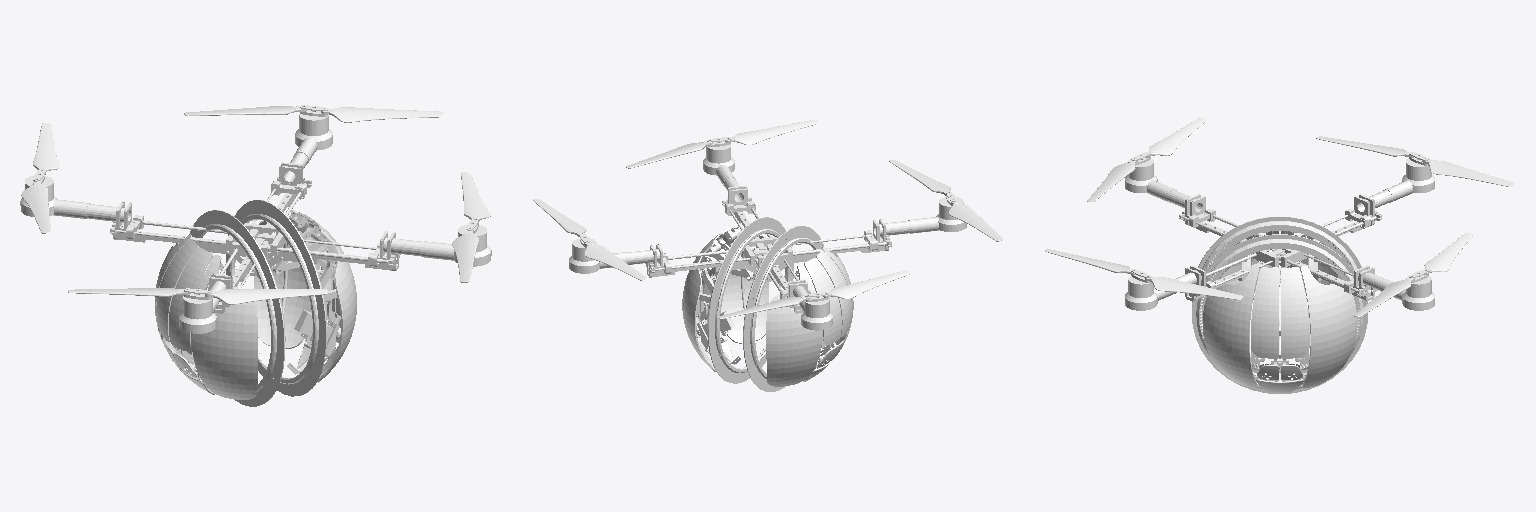
--- Render facts (derived) ---
Views: 3 orthographic renders of the robot side by side, from view 1: azimuth 30°, elevation 25°; view 2: azimuth 150°, elevation 25°; view 3: azimuth 270°, elevation 25°.
Model mmsrobot with 59 links and 58 joints (52 continuous, 5 prismatic, 1 fixed), rooted at base_link, posed every joint at zero.
Visible links, largest first — view 1: foot430, wheel1, wheel2, fly032, fly022, fly012, foot42, foot230, foot130, fly021, fly031, foot32 (+17 smaller); view 2: foot330, wheel1, wheel2, foot230, fly042, fly022, foot32, fly012, foot130, fly011, fly041, foot42 (+13 smaller); view 3: foot130, wheel1, foot230, wheel2, foot12, foot22, fly042, fly032, fly012, fly011, fly022, fly021 (+13 smaller).
Boxes of the visible links, bbox=[...] form: foot430: bbox=[192, 255, 257, 399]; wheel1: bbox=[226, 200, 326, 396]; wheel2: bbox=[189, 210, 285, 406]; fly032: bbox=[20, 196, 143, 238]; fly022: bbox=[368, 231, 491, 266]; fly012: bbox=[271, 129, 332, 199]; foot42: bbox=[169, 248, 212, 355]; foot230: bbox=[315, 229, 356, 382]; foot130: bbox=[254, 211, 319, 348]; fly021: bbox=[256, 232, 400, 270]; fly031: bbox=[110, 221, 258, 254]; foot32: bbox=[156, 239, 199, 341]; foot330: bbox=[766, 264, 821, 386]; wheel1: bbox=[708, 217, 793, 383]; wheel2: bbox=[743, 226, 823, 391]; foot230: bbox=[713, 226, 768, 343]; fly042: bbox=[864, 214, 966, 250]; fly022: bbox=[703, 157, 755, 215]; foot32: bbox=[804, 258, 841, 348]; fly012: bbox=[569, 244, 671, 273]; foot130: bbox=[682, 242, 717, 371]; fly011: bbox=[645, 243, 765, 277]; fly041: bbox=[784, 235, 891, 263]; foot42: bbox=[816, 250, 851, 336]; foot130: bbox=[1300, 266, 1357, 387]; wheel1: bbox=[1192, 234, 1367, 393]; foot230: bbox=[1203, 266, 1259, 387]; wheel2: bbox=[1192, 217, 1367, 372]; foot12: bbox=[1281, 267, 1309, 361]; foot22: bbox=[1251, 267, 1279, 361]; fly042: bbox=[1125, 175, 1215, 227]; fly032: bbox=[1345, 175, 1434, 228]; fly012: bbox=[1344, 265, 1434, 310]; fly011: bbox=[1271, 249, 1377, 301]; fly022: bbox=[1125, 265, 1214, 310]; fly021: bbox=[1185, 249, 1278, 301].
Bounding box of the posed robot: 0.8923 × 0.8923 × 0.3569 m (x, y, z).
Meshes: 58 distinct files referenced, 57 mesh visuals loaded (57 binary STL); not drawn: 1 (reference not matched to a file when rendering).

robot.urdf — mmsrobot:
<robot
  name="mmsrobot">
  <link
    name="base_link">
  </link>
 <joint
    name="base_link0_fixed"
    type="fixed">
    <parent
      link="base_link" />
    <child
      link="base_link0" />
  </joint>
  <link
    name="base_link0">
    <inertial>
      <origin
        xyz="0.000365591606460035 -0.00111717371476661 -0.00671578032312127"
        rpy="0 0 0" />
      <mass
        value="2.28359826210286" />
      <inertia
        ixx="0.0376414046378065"
        ixy="9.5348042036841E-05"
        ixz="-4.17685026793869E-06"
        iyy="0.0230923897402715"
        iyz="0.000624427846058721"
        izz="0.0199997521264484" />
    </inertial>
    <visual>
      <origin
        xyz="0 0 0"
        rpy="0 0 0" />
      <geometry>
        <mesh
          filename="package://mmsrobot_description/meshes/base_link.STL" />
      </geometry>
      <material
        name="">
        <color
          rgba="0.752941176470588 0.752941176470588 0.752941176470588 1" />
      </material>
    </visual>
    <collision>
      <origin
        xyz="0 0 0"
        rpy="0 0 0" />
      <geometry>
        <mesh
          filename="package://mmsrobot_description/meshes/base_link.STL" />
      </geometry>
    </collision>
  </link>
  <link
    name="wheel1">
    <inertial>
      <origin
        xyz="-1.03209863246588E-05 -1.99433017201698E-16 0.000778936315291849"
        rpy="0 0 0" />
      <mass
        value="0.162807208863698" />
      <inertia
        ixx="0.00181549978921057"
        ixy="-2.41657419130976E-18"
        ixz="-8.53429402280263E-09"
        iyy="0.00181549982536503"
        iyz="2.97533364913781E-18"
        izz="0.00362480729594771" />
    </inertial>
    <visual>
      <origin
        xyz="0 0 0"
        rpy="0 0 0" />
      <geometry>
        <mesh
          filename="package://mmsrobot_description/meshes/wheel1.STL" />
      </geometry>
      <material
        name="">
        <color
          rgba="1 1 1 1" />
      </material>
    </visual>
    <collision>
      <origin
        xyz="0 0 0"
        rpy="0 0 0" />
      <geometry>
        <mesh
          filename="package://mmsrobot_description/meshes/wheel1.STL" />
      </geometry>
    </collision>
  </link>
  <joint
    name="wheel_re1"
    type="continuous">
    <origin
      xyz="0.038 0 -4.06063573736665E-05"
      rpy="0 1.5707963267949 0" />
    <parent
      link="base_link0" />
    <child
      link="wheel1" />
    <axis
      xyz="0 0 -1" />
  </joint>
  <link
    name="wheel2">
    <inertial>
      <origin
        xyz="1.03209863247143E-05 7.93101198348749E-17 -0.00122106368470842"
        rpy="0 0 0" />
      <mass
        value="0.162807208863699" />
      <inertia
        ixx="0.00181549978921057"
        ixy="-2.18751339988067E-18"
        ixz="8.53429402276014E-09"
        iyy="0.00181549982536503"
        iyz="-2.66017879014022E-18"
        izz="0.00362480729594773" />
    </inertial>
    <visual>
      <origin
        xyz="0 0 0"
        rpy="0 0 0" />
      <geometry>
        <mesh
          filename="package://mmsrobot_description/meshes/wheel2.STL" />
      </geometry>
      <material
        name="">
        <color
          rgba="1 1 1 1" />
      </material>
    </visual>
    <collision>
      <origin
        xyz="0 0 0"
        rpy="0 0 0" />
      <geometry>
        <mesh
          filename="package://mmsrobot_description/meshes/wheel2.STL" />
      </geometry>
    </collision>
  </link>
  <joint
    name="wheel_re2"
    type="continuous">
    <origin
      xyz="-0.04 0 -4.54952400428741E-05"
      rpy="3.14159265358979 -1.5707963267949 0" />
    <parent
      link="base_link0" />
    <child
      link="wheel2" />
    <axis
      xyz="0 0 1" />
  </joint>
  <link
    name="foot10">
    <inertial>
      <origin
        xyz="-0.0364998055853478 -0.0201791962952851 0.0393769541906813"
        rpy="0 0 0" />
      <mass
        value="0.0555141043554309" />
      <inertia
        ixx="6.36843779043018E-05"
        ixy="-1.79308926580314E-08"
        ixz="5.74001723262844E-06"
        iyy="3.75373705544821E-05"
        iyz="3.530511735445E-08"
        izz="4.18952031197167E-05" />
    </inertial>
    <visual>
      <origin
        xyz="0 0 0"
        rpy="0 0 0" />
      <geometry>
        <mesh
          filename="package://mmsrobot_description/meshes/foot10.STL" />
      </geometry>
      <material
        name="">
        <color
          rgba="1 1 1 1" />
      </material>
    </visual>
    <collision>
      <origin
        xyz="0 0 0"
        rpy="0 0 0" />
      <geometry>
        <mesh
          filename="package://mmsrobot_description/meshes/foot10.STL" />
      </geometry>
    </collision>
  </link>
  <joint
    name="foot_re10"
    type="continuous">
    <origin
      xyz="0.0779999999018676 -0.0199999999999988 -0.128000000080715"
      rpy="0 0 3.14159265358979" />
    <parent
      link="base_link0" />
    <child
      link="foot10" />
    <axis
      xyz="0 1 0" />
  </joint>
  <link
    name="foot11">
    <inertial>
      <origin
        xyz="0.00118918242163793 0.00840513920933102 -0.0152443183708235"
        rpy="0 0 0" />
      <mass
        value="0.011272090543252" />
      <inertia
        ixx="4.34882142011447E-06"
        ixy="4.74633962197037E-07"
        ixz="-1.32354564165582E-06"
        iyy="4.23005000512135E-06"
        iyz="1.05971132256461E-06"
        izz="2.25417296735574E-06" />
    </inertial>
    <visual>
      <origin
        xyz="0 0 0"
        rpy="0 0 0" />
      <geometry>
        <mesh
          filename="package://mmsrobot_description/meshes/foot11.STL" />
      </geometry>
      <material
        name="">
        <color
          rgba="1 1 1 1" />
      </material>
    </visual>
    <collision>
      <origin
        xyz="0 0 0"
        rpy="0 0 0" />
      <geometry>
        <mesh
          filename="package://mmsrobot_description/meshes/foot11.STL" />
      </geometry>
    </collision>
  </link>
  <joint
    name="foot_re11"
    type="continuous">
    <origin
      xyz="-0.0574330127600885 -0.0452000000771286 0.0527500000906872"
      rpy="-3.1415926533426 0.523598784293071 -3.14159265309541" />
    <parent
      link="foot10" />
    <child
      link="foot11" />
    <axis
      xyz="-1 0 0" />
  </joint>
  <link
    name="foot12">
    <inertial>
      <origin
        xyz="-0.0176749436470422 -0.0630855837630193 -0.00925365803538597"
        rpy="0 0 0" />
      <mass
        value="0.10916330558266" />
      <inertia
        ixx="0.000247796501433723"
        ixy="1.56483243826473E-05"
        ixz="1.46150194923993E-06"
        iyy="5.00224152904236E-05"
        iyz="-6.07245365773293E-05"
        izz="0.000227633558083589" />
    </inertial>
    <visual>
      <origin
        xyz="0 0 0"
        rpy="0 0 0" />
      <geometry>
        <mesh
          filename="package://mmsrobot_description/meshes/foot12.STL" />
      </geometry>
      <material
        name="">
        <color
          rgba="1 1 1 1" />
      </material>
    </visual>
    <collision>
      <origin
        xyz="0 0 0"
        rpy="0 0 0" />
      <geometry>
        <mesh
          filename="package://mmsrobot_description/meshes/foot12.STL" />
      </geometry>
    </collision>
  </link>
  <joint
    name="foot_re12"
    type="continuous">
    <origin
      xyz="-0.01433974407594 0.0119999999958751 -0.043971140527557"
      rpy="2.0562583606008 9.6909593482918E-09 1.57079633233573" />
    <parent
      link="foot11" />
    <child
      link="foot12" />
    <axis
      xyz="1 0 0" />
  </joint>
  <link
    name="foot130">
    <inertial>
      <origin
        xyz="-0.0161047379365589 -0.0703154018588947 -0.118825985425476"
        rpy="0 0 0" />
      <mass
        value="0.0890622032349928" />
      <inertia
        ixx="0.000458332700700983"
        ixy="2.95355966646799E-05"
        ixz="2.96987019370773E-05"
        iyy="0.000436062799439686"
        iyz="-1.56412220789116E-05"
        izz="0.000107866045194191" />
    </inertial>
    <visual>
      <origin
        xyz="0 0 0"
        rpy="0 0 0" />
      <geometry>
        <mesh
          filename="package://mmsrobot_description/meshes/foot130.STL" />
      </geometry>
      <material
        name="">
        <color
          rgba="1 1 1 1" />
      </material>
    </visual>
    <collision>
      <origin
        xyz="0 0 0"
        rpy="0 0 0" />
      <geometry>
        <mesh
          filename="package://mmsrobot_description/meshes/foot130.STL" />
      </geometry>
    </collision>
  </link>
  <joint
    name="foot_re130"
    type="continuous">
    <origin
      xyz="-0.0089999984374722 -0.139143611896511 -0.0513425319721627"
      rpy="3.14159265358979 1.53265957630772 1.57079633775183" />
    <parent
      link="foot12" />
    <child
      link="foot130" />
    <axis
      xyz="0 1 0" />
  </joint>
  <link
    name="foot131">
    <inertial>
      <origin
        xyz="0.016898091729692 -0.00624999978166453 -0.0224391345157634"
        rpy="0 0 0" />
      <mass
        value="0.00793203711002206" />
      <inertia
        ixx="2.60058938322836E-06"
        ixy="-1.75954532342174E-14"
        ixz="1.8222369080421E-06"
        iyy="4.05815808224144E-06"
        iyz="2.44764884510908E-14"
        izz="1.5530836458796E-06" />
    </inertial>
    <visual>
      <origin
        xyz="0 0 0"
        rpy="0 0 0" />
      <geometry>
        <mesh
          filename="package://mmsrobot_description/meshes/foot131.STL" />
      </geometry>
      <material
        name="">
        <color
          rgba="1 1 1 1" />
      </material>
    </visual>
    <collision>
      <origin
        xyz="0 0 0"
        rpy="0 0 0" />
      <geometry>
        <mesh
          filename="package://mmsrobot_description/meshes/foot131.STL" />
      </geometry>
    </collision>
  </link>
  <joint
    name="foot_re131"
    type="continuous">
    <origin
      xyz="-0.0399999988918239 -0.0987834622902894 -0.0337909377960114"
      rpy="3.14159265358979 1.53265957630772 1.57079633775183" />
    <parent
      link="foot12" />
    <child
      link="foot131" />
    <axis
      xyz="0 1 0" />
  </joint>
  <link
    name="foot132">
    <inertial>
      <origin
        xyz="-0.00400000000000002 0.00485487676542894 -0.0326409278604714"
        rpy="0 0 0" />
      <mass
        value="0.00704964418718946" />
      <inertia
        ixx="3.32114514170302E-06"
        ixy="-7.02513799811767E-23"
        ixz="3.31711157178716E-22"
        iyy="3.20650438190996E-06"
        iyz="4.58837210721986E-07"
        izz="1.89836964456418E-07" />
    </inertial>
    <visual>
      <origin
        xyz="0 0 0"
        rpy="0 0 0" />
      <geometry>
        <mesh
          filename="package://mmsrobot_description/meshes/foot132.STL" />
      </geometry>
      <material
        name="">
        <color
          rgba="1 1 1 1" />
      </material>
    </visual>
    <collision>
      <origin
        xyz="0 0 0"
        rpy="0 0 0" />
      <geometry>
        <mesh
          filename="package://mmsrobot_description/meshes/foot132.STL" />
      </geometry>
    </collision>
  </link>
  <joint
    name="foot_re132"
    type="continuous">
    <origin
      xyz="0.0391017245834569 -0.0184999994948159 -0.0519235488873236"
      rpy="-1.71482872133985 1.09231997338156E-08 -1.57079632837916" />
    <parent
      link="foot131" />
    <child
      link="foot132" />
    <axis
      xyz="-1 0 0" />
  </joint>
  <link
    name="foot133">
    <inertial>
      <origin
        xyz="0.0208154026970013 0.0215519638377631 0.0301992700093149"
        rpy="0 0 0" />
      <mass
        value="0.0890622032349928" />
      <inertia
        ixx="0.000436062799191566"
        ixy="-1.12398754156044E-05"
        ixz="-3.1474825353347E-05"
        iyy="0.000123523774974536"
        iyz="-7.82582931724008E-05"
        izz="0.000442674971168758" />
    </inertial>
    <visual>
      <origin
        xyz="0 0 0"
        rpy="0 0 0" />
      <geometry>
        <mesh
          filename="package://mmsrobot_description/meshes/foot133.STL" />
      </geometry>
      <material
        name="">
        <color
          rgba="1 1 1 1" />
      </material>
    </visual>
    <collision>
      <origin
        xyz="0 0 0"
        rpy="0 0 0" />
      <geometry>
        <mesh
          filename="package://mmsrobot_description/meshes/foot133.STL" />
      </geometry>
    </collision>
  </link>
  <joint
    name="foot_re133"
    type="continuous">
    <origin
      xyz="0 0.00970975353085788 -0.0652818557209428"
      rpy="0 0 0" />
    <parent
      link="foot132" />
    <child
      link="foot133" />
    <axis
      xyz="-1 0 0" />
  </joint>
  <link
    name="foot21">
    <inertial>
      <origin
        xyz="0.000273881636067425 0.00865176735725234 0.0169386591996159"
        rpy="0 0 0" />
      <mass
        value="0.0119788315412312" />
      <inertia
        ixx="4.92814345357187E-06"
        ixy="5.17742557750124E-07"
        ixz="1.62037857720931E-06"
        iyy="4.97488036293264E-06"
        iyz="-1.13963452609378E-06"
        izz="2.4449725189846E-06" />
    </inertial>
    <visual>
      <origin
        xyz="0 0 0"
        rpy="0 0 0" />
      <geometry>
        <mesh
          filename="package://mmsrobot_description/meshes/foot21.STL" />
      </geometry>
      <material
        name="">
        <color
          rgba="1 1 1 1" />
      </material>
    </visual>
    <collision>
      <origin
        xyz="0 0 0"
        rpy="0 0 0" />
      <geometry>
        <mesh
          filename="package://mmsrobot_description/meshes/foot21.STL" />
      </geometry>
    </collision>
  </link>
  <joint
    name="foot_re21"
    type="continuous">
    <origin
      xyz="-0.0574330171796816 0.00479999979332649 0.0527500072839604"
      rpy="5.0839055043723E-09 0.523598784293072 -3.14159264342198" />
    <parent
      link="foot10" />
    <child
      link="foot21" />
    <axis
      xyz="-1 0 0" />
  </joint>
  <link
    name="foot22">
    <inertial>
      <origin
        xyz="-0.0176751244669035 -0.063602757743947 0.00448335630583022"
        rpy="0 0 0" />
      <mass
        value="0.109161602016911" />
      <inertia
        ixx="0.000247797737535849"
        ixy="1.57141977654333E-05"
        ixz="-2.8103680932955E-07"
        iyy="4.19200854962888E-05"
        iyz="4.67196346658706E-05"
        izz="0.000235736713987056" />
    </inertial>
    <visual>
      <origin
        xyz="0 0 0"
        rpy="0 0 0" />
      <geometry>
        <mesh
          filename="package://mmsrobot_description/meshes/foot22.STL" />
      </geometry>
      <material
        name="">
        <color
          rgba="1 1 1 1" />
      </material>
    </visual>
    <collision>
      <origin
        xyz="0 0 0"
        rpy="0 0 0" />
      <geometry>
        <mesh
          filename="package://mmsrobot_description/meshes/foot22.STL" />
      </geometry>
    </collision>
  </link>
  <joint
    name="foot_re22"
    type="continuous">
    <origin
      xyz="-0.0143397441848493 0.0119999999946302 0.0439711320906185"
      rpy="-2.1315356763959 -9.50507177220965E-09 1.57079632395831" />
    <parent
      link="foot21" />
    <child
      link="foot22" />
    <axis
      xyz="-1 0 0" />
  </joint>
  <link
    name="foot230">
    <inertial>
      <origin
        xyz="0.0703176034070182 0.119872852216277 -0.0032456666132622"
        rpy="0 0 0" />
      <mass
        value="0.089058496821403" />
      <inertia
        ixx="0.000436032424291995"
        ixy="-1.06788045667388E-05"
        ixz="3.16695047087249E-05"
        iyy="0.00012640304116681"
        iyz="8.38886729452962E-05"
        izz="0.000439759784767607" />
    </inertial>
    <visual>
      <origin
        xyz="0 0 0"
        rpy="0 0 0" />
      <geometry>
        <mesh
          filename="package://mmsrobot_description/meshes/foot230.STL" />
      </geometry>
      <material
        name="">
        <color
          rgba="1 1 1 1" />
      </material>
    </visual>
    <collision>
      <origin
        xyz="0 0 0"
        rpy="0 0 0" />
      <geometry>
        <mesh
          filename="package://mmsrobot_description/meshes/foot230.STL" />
      </geometry>
    </collision>
  </link>
  <joint
    name="foot_re230"
    type="continuous">
    <origin
      xyz="-0.00899999843747451 -0.142610836080339 0.0407326619972927"
      rpy="-3.01696383443525 -2.76848137302838E-09 -3.14159262026724" />
    <parent
      link="foot22" />
    <child
      link="foot230" />
    <axis
      xyz="0.999999999999999 0 0" />
  </joint>
  <link
    name="foot231">
    <inertial>
      <origin
        xyz="0.00578663004334556 -0.0155159626151743 -0.0206037922244977"
        rpy="0 0 0" />
      <mass
        value="0.00863860619493619" />
      <inertia
        ixx="4.60582357900598E-06"
        ixy="6.21083902049044E-08"
        ixz="8.24743139046323E-08"
        iyy="2.96700571496884E-06"
        iyz="-2.06823937188349E-06"
        izz="1.77808646058056E-06" />
    </inertial>
    <visual>
      <origin
        xyz="0 0 0"
        rpy="0 0 0" />
      <geometry>
        <mesh
          filename="package://mmsrobot_description/meshes/foot231.STL" />
      </geometry>
      <material
        name="">
        <color
          rgba="1 1 1 1" />
      </material>
    </visual>
    <collision>
      <origin
        xyz="0 0 0"
        rpy="0 0 0" />
      <geometry>
        <mesh
          filename="package://mmsrobot_description/meshes/foot231.STL" />
      </geometry>
    </collision>
  </link>
  <joint
    name="foot_re231"
    type="continuous">
    <origin
      xyz="-0.0399999988918194 -0.101044996980018 0.026266109047571"
      rpy="-1.60793689210283 2.00164508551207E-09 3.14159265354119" />
    <parent
      link="foot22" />
    <child
      link="foot231" />
    <axis
      xyz="1 0 0" />
  </joint>
  <link
    name="foot232">
    <inertial>
      <origin
        xyz="-0.004 -0.00708869570181853 -0.0322296508396697"
        rpy="0 0 0" />
      <mass
        value="0.00704964418718947" />
      <inertia
        ixx="3.32114514170303E-06"
        ixy="2.27508905015369E-23"
        ixz="1.5809469657011E-22"
        iyy="3.12925408769717E-06"
        iyz="-6.61515248144455E-07"
        izz="2.67087258669217E-07" />
    </inertial>
    <visual>
      <origin
        xyz="0 0 0"
        rpy="0 0 0" />
      <geometry>
        <mesh
          filename="package://mmsrobot_description/meshes/foot232.STL" />
      </geometry>
      <material
        name="">
        <color
          rgba="1 1 1 1" />
      </material>
    </visual>
    <collision>
      <origin
        xyz="0 0 0"
        rpy="0 0 0" />
      <geometry>
        <mesh
          filename="package://mmsrobot_description/meshes/foot232.STL" />
      </geometry>
    </collision>
  </link>
  <joint
    name="foot_re232"
    type="continuous">
    <origin
      xyz="0.0185000000000392 -0.0391017246127665 -0.0519235486852441"
      rpy="1.78367153659083 -1.33224752856499E-14 -3.63042932687885E-14" />
    <parent
      link="foot231" />
    <child
      link="foot232" />
    <axis
      xyz="1 0 0" />
  </joint>
  <link
    name="foot233">
    <inertial>
      <origin
        xyz="0.0208176069601055 -0.0194278421434326 0.0316119456625289"
        rpy="0 0 0" />
      <mass
        value="0.089058496821403" />
      <inertia
        ixx="0.000436032423609174"
        ixy="9.04708061585291E-06"
        ixz="-3.21736713614188E-05"
        iyy="0.000135780234085583"
        iyz="9.94373367574579E-05"
        izz="0.000430382592531655" />
    </inertial>
    <visual>
      <origin
        xyz="0 0 0"
        rpy="0 0 0" />
      <geometry>
        <mesh
          filename="package://mmsrobot_description/meshes/foot233.STL" />
      </geometry>
      <material
        name="">
        <color
          rgba="1 1 1 1" />
      </material>
    </visual>
    <collision>
      <origin
        xyz="0 0 0"
        rpy="0 0 0" />
      <geometry>
        <mesh
          filename="package://mmsrobot_description/meshes/foot233.STL" />
      </geometry>
    </collision>
  </link>
  <joint
    name="foot_re233"
    type="continuous">
    <origin
      xyz="0 -0.0141773914036371 -0.0644593016793394"
      rpy="0 4.13590306276514E-25 0" />
    <parent
      link="foot232" />
    <child
      link="foot233" />
    <axis
      xyz="1 0 0" />
  </joint>
  <link
    name="foot30">
    <inertial>
      <origin
        xyz="-0.020178814286165 -0.03649970517219 0.0393778194204265"
        rpy="0 0 0" />
      <mass
        value="0.0555116363708182" />
      <inertia
        ixx="3.75354799484112E-05"
        ixy="-1.87986604874322E-08"
        ixz="3.65930859755402E-08"
        iyy="6.36826331150098E-05"
        iyz="5.73966657725984E-06"
        izz="4.18943813527588E-05" />
    </inertial>
    <visual>
      <origin
        xyz="0 0 0"
        rpy="0 0 0" />
      <geometry>
        <mesh
          filename="package://mmsrobot_description/meshes/foot30.STL" />
      </geometry>
      <material
        name="">
        <color
          rgba="1 1 1 1" />
      </material>
    </visual>
    <collision>
      <origin
        xyz="0 0 0"
        rpy="0 0 0" />
      <geometry>
        <mesh
          filename="package://mmsrobot_description/meshes/foot30.STL" />
      </geometry>
    </collision>
  </link>
  <joint
    name="foot_re30"
    type="continuous">
    <origin
      xyz="-0.0779999999018841 -0.0200000000000044 -0.128000000080711"
      rpy="-1.13935575444627E-27 -1.96769920517305E-14 -1.57079632679484" />
    <parent
      link="base_link0" />
    <child
      link="foot30" />
    <axis
      xyz="1 0 0" />
  </joint>
  <link
    name="foot41">
    <inertial>
      <origin
        xyz="0.000273197563149807 -0.00865167443676584 0.0169387739336998"
        rpy="0 0 0" />
      <mass
        value="0.0119786596281688" />
      <inertia
        ixx="4.92805017795387E-06"
        ixy="-5.17788946791034E-07"
        ixz="1.62015163689636E-06"
        iyy="4.97481655007867E-06"
        iyz="1.13954320498524E-06"
        izz="2.44505014699804E-06" />
    </inertial>
    <visual>
      <origin
        xyz="0 0 0"
        rpy="0 0 0" />
      <geometry>
        <mesh
          filename="package://mmsrobot_description/meshes/foot41.STL" />
      </geometry>
      <material
        name="">
        <color
          rgba="1 1 1 1" />
      </material>
    </visual>
    <collision>
      <origin
        xyz="0 0 0"
        rpy="0 0 0" />
      <geometry>
        <mesh
          filename="package://mmsrobot_description/meshes/foot41.STL" />
      </geometry>
    </collision>
  </link>
  <joint
    name="foot_re41"
    type="continuous">
    <origin
      xyz="0.00479999910719571 -0.0574330222969366 0.0527500139199335"
      rpy="1.25576976108112E-08 0.523598784375025 -1.57079630167953" />
    <parent
      link="foot30" />
    <child
      link="foot41" />
    <axis
      xyz="1 0 0" />
  </joint>
  <link
    name="foot42">
    <inertial>
      <origin
        xyz="0.0176749436470342 0.0121131626217559 -0.062599459718598"
        rpy="0 0 0" />
      <mass
        value="0.109163305582642" />
      <inertia
        ixx="0.000247796501433588"
        ixy="3.7916745198478E-06"
        ixz="-1.52521883107749E-05"
        iyy="0.00024611715245978"
        iyz="7.93308019341105E-06"
        izz="3.15388209140859E-05" />
    </inertial>
    <visual>
      <origin
        xyz="0 0 0"
        rpy="0 0 0" />
      <geometry>
        <mesh
          filename="package://mmsrobot_description/meshes/foot42.STL" />
      </geometry>
      <material
        name="">
        <color
          rgba="1 1 1 1" />
      </material>
    </visual>
    <collision>
      <origin
        xyz="0 0 0"
        rpy="0 0 0" />
      <geometry>
        <mesh
          filename="package://mmsrobot_description/meshes/foot42.STL" />
      </geometry>
    </collision>
  </link>
  <joint
    name="foot_re42"
    type="continuous">
    <origin
      xyz="-0.0143397431731468 -0.0119999935271351 0.0439711297506678"
      rpy="2.3193446601794 2.79299024606319E-08 1.57079633098806" />
    <parent
      link="foot41" />
    <child
      link="foot42" />
    <axis
      xyz="0.999999999999999 0 0" />
  </joint>
  <link
    name="foot430">
    <inertial>
      <origin
        xyz="0.0383154017328526 0.0158815730762303 0.118856018089647"
        rpy="0 0 0" />
      <mass
        value="0.0890622032347055" />
      <inertia
        ixx="0.00043606279941257"
        ixy="2.95649163305943E-05"
        ixz="-1.55857312672982E-05"
        iyy="0.000458219926092464"
        iyz="3.0356612527702E-05"
        izz="0.000107978819816286" />
    </inertial>
    <visual>
      <origin
        xyz="0 0 0"
        rpy="0 0 0" />
      <geometry>
        <mesh
          filename="package://mmsrobot_description/meshes/foot430.STL" />
      </geometry>
      <material
        name="">
        <color
          rgba="1 1 1 1" />
      </material>
    </visual>
    <collision>
      <origin
        xyz="0 0 0"
        rpy="0 0 0" />
      <geometry>
        <mesh
          filename="package://mmsrobot_description/meshes/foot430.STL" />
      </geometry>
    </collision>
  </link>
  <joint
    name="foot_re430"
    type="continuous">
    <origin
      xyz="0.0410000021072509 -0.00247744863659816 -0.148293168653835"
      rpy="0.296771297654271 2.11869365657106E-08 -3.11628427149921E-08" />
    <parent
      link="foot42" />
    <child
      link="foot430" />
    <axis
      xyz="0.999999999999995 0 0" />
  </joint>
  <link
    name="foot431">
    <inertial>
      <origin
        xyz="-0.00424999999999998 -0.0202095125089549 0.0195098939066535"
        rpy="0 0 0" />
      <mass
        value="0.00793203711002207" />
      <inertia
        ixx="4.05815808224144E-06"
        ixy="1.23604633620486E-22"
        ixz="-1.02309331906323E-22"
        iyy="2.01006439972787E-06"
        iyz="1.89483664234074E-06"
        izz="2.14360862938009E-06" />
    </inertial>
    <visual>
      <origin
        xyz="0 0 0"
        rpy="0 0 0" />
      <geometry>
        <mesh
          filename="package://mmsrobot_description/meshes/foot431.STL" />
      </geometry>
      <material
        name="">
        <color
          rgba="1 1 1 1" />
      </material>
    </visual>
    <collision>
      <origin
        xyz="0 0 0"
        rpy="0 0 0" />
      <geometry>
        <mesh
          filename="package://mmsrobot_description/meshes/foot431.STL" />
      </geometry>
    </collision>
  </link>
  <joint
    name="foot_re431"
    type="continuous">
    <origin
      xyz="0.0505000030338873 0.000750902824356664 -0.104400370242186"
      rpy="0.141097570434059 1.00313561013763E-08 -3.25024284604319E-08" />
    <parent
      link="foot42" />
    <child
      link="foot431" />
    <axis
      xyz="0.999999999999995 0 0" />
  </joint>
  <link
    name="foot432">
    <inertial>
      <origin
        xyz="-0.00400000000000003 0.0325723134570516 0.00529569599350059"
        rpy="0 0 0" />
      <mass
        value="0.00704964418718947" />
      <inertia
        ixx="3.32114514170303E-06"
        ixy="3.45281182702234E-22"
        ixz="5.50994729836634E-23"
        iyy="2.02792906699002E-07"
        iyz="-4.99447192733479E-07"
        izz="3.19354843966738E-06" />
    </inertial>
    <visual>
      <origin
        xyz="0 0 0"
        rpy="0 0 0" />
      <geometry>
        <mesh
          filename="package://mmsrobot_description/meshes/foot432.STL" />
      </geometry>
      <material
        name="">
        <color
          rgba="1 1 1 1" />
      </material>
    </visual>
    <collision>
      <origin
        xyz="0 0 0"
        rpy="0 0 0" />
      <geometry>
        <mesh
          filename="package://mmsrobot_description/meshes/foot432.STL" />
      </geometry>
    </collision>
  </link>
  <joint
    name="foot_re432"
    type="continuous">
    <origin
      xyz="0.00800000000005502 -0.0467642616994829 0.0451453633023117"
      rpy="6.56580732005807E-08 4.6834926280298E-15 6.39210780030601E-14" />
    <parent
      link="foot431" />
    <child
      link="foot432" />
    <axis
      xyz="0.999999999999995 0 0" />
  </joint>
  <link
    name="foot433">
    <inertial>
      <origin
        xyz="0.0208154026973695 -0.030487864855888 0.0211417395427129"
        rpy="0 0 0" />
      <mass
        value="0.0890622032347055" />
      <inertia
        ixx="0.000436062799184979"
        ixy="3.16238976207515E-05"
        ixz="-1.0813349606944E-05"
        iyy="0.000440500937366361"
        iyz="8.2543803602479E-05"
        izz="0.00012569780876998" />
    </inertial>
    <visual>
      <origin
        xyz="0 0 0"
        rpy="0 0 0" />
      <geometry>
        <mesh
          filename="package://mmsrobot_description/meshes/foot433.STL" />
      </geometry>
      <material
        name="">
        <color
          rgba="1 1 1 1" />
      </material>
    </visual>
    <collision>
      <origin
        xyz="0 0 0"
        rpy="0 0 0" />
      <geometry>
        <mesh
          filename="package://mmsrobot_description/meshes/foot433.STL" />
      </geometry>
    </collision>
  </link>
  <joint
    name="foot_re433"
    type="continuous">
    <origin
      xyz="0 0.0651446269141031 0.0105913919870012"
      rpy="0 -3.30872245021211E-24 1.07533479631894E-23" />
    <parent
      link="foot432" />
    <child
      link="foot433" />
    <axis
      xyz="0.999999999999995 0 0" />
  </joint>
  <link
    name="foot31">
    <inertial>
      <origin
        xyz="0.000273881569176987 0.00865176694514362 0.0169386588279008"
        rpy="0 0 0" />
      <mass
        value="0.0119788315458601" />
      <inertia
        ixx="4.9281436867505E-06"
        ixy="5.17742523634712E-07"
        ixz="1.62037858024457E-06"
        iyy="4.97488060443403E-06"
        iyz="-1.13963455943706E-06"
        izz="2.4449725177326E-06" />
    </inertial>
    <visual>
      <origin
        xyz="0 0 0"
        rpy="0 0 0" />
      <geometry>
        <mesh
          filename="package://mmsrobot_description/meshes/foot31.STL" />
      </geometry>
      <material
        name="">
        <color
          rgba="1 1 1 1" />
      </material>
    </visual>
    <collision>
      <origin
        xyz="0 0 0"
        rpy="0 0 0" />
      <geometry>
        <mesh
          filename="package://mmsrobot_description/meshes/foot31.STL" />
      </geometry>
    </collision>
  </link>
  <joint
    name="foot_re31"
    type="continuous">
    <origin
      xyz="-0.0451999969971262 -0.0574330183192363 0.0527500067266616"
      rpy="1.73944251357435E-08 0.523598784375031 -1.57079629200607" />
    <parent
      link="foot30" />
    <child
      link="foot31" />
    <axis
      xyz="0.999999999999999 0 0" />
  </joint>
  <link
    name="foot32">
    <inertial>
      <origin
        xyz="-0.0176751244669041 -0.0544220225962004 -0.0332212993866702"
        rpy="0 0 0" />
      <mass
        value="0.109161602016912" />
      <inertia
        ixx="0.00024779773753586"
        ixy="1.29666714103152E-05"
        ixz="8.88146528655752E-06"
        iyy="6.29269581889214E-05"
        iyz="-7.62424868653227E-05"
        izz="0.000214729841294438" />
    </inertial>
    <visual>
      <origin
        xyz="0 0 0"
        rpy="0 0 0" />
      <geometry>
        <mesh
          filename="package://mmsrobot_description/meshes/foot32.STL" />
      </geometry>
      <material
        name="">
        <color
          rgba="1 1 1 1" />
      </material>
    </visual>
    <collision>
      <origin
        xyz="0 0 0"
        rpy="0 0 0" />
      <geometry>
        <mesh
          filename="package://mmsrobot_description/meshes/foot32.STL" />
      </geometry>
    </collision>
  </link>
  <joint
    name="foot_re32"
    type="continuous">
    <origin
      xyz="-0.0143397443736736 0.0119999986355285 0.0439711324685769"
      rpy="-2.74996879463057 -5.27199719703999E-09 1.57079630943337" />
    <parent
      link="foot31" />
    <child
      link="foot32" />
    <axis
      xyz="1 0 0" />
  </joint>
  <link
    name="foot330">
    <inertial>
      <origin
        xyz="0.0703176138422589 -0.0163215246197098 0.118800847732444"
        rpy="0 0 0" />
      <mass
        value="0.0890584968216805" />
      <inertia
        ixx="0.000436032424290283"
        ixy="-2.9507360580851E-05"
        ixz="-1.56942686053947E-05"
        iyy="0.000458408591662587"
        iyz="-2.90826760806823E-05"
        izz="0.000107754234269795" />
    </inertial>
    <visual>
      <origin
        xyz="0 0 0"
        rpy="0 0 0" />
      <geometry>
        <mesh
          filename="package://mmsrobot_description/meshes/foot330.STL" />
      </geometry>
      <material
        name="">
        <color
          rgba="1 1 1 1" />
      </material>
    </visual>
    <collision>
      <origin
        xyz="0 0 0"
        rpy="0 0 0" />
      <geometry>
        <mesh
          filename="package://mmsrobot_description/meshes/foot330.STL" />
      </geometry>
    </collision>
  </link>
  <joint
    name="foot_re330"
    type="continuous">
    <origin
      xyz="-0.00899999843747453 -0.139812714845492 -0.049491464804066"
      rpy="0.913391935739451 -5.66896538267249E-08 -3.14159259601572" />
    <parent
      link="foot32" />
    <child
      link="foot330" />
    <axis
      xyz="-0.999999999999995 0 0" />
  </joint>
  <link
    name="foot331">
    <inertial>
      <origin
        xyz="-0.00471337029544247 0.0185227124105031 0.0179491108996709"
        rpy="0 0 0" />
      <mass
        value="0.00863860619493619" />
      <inertia
        ixx="4.60582342139282E-06"
        ixy="-7.41440661317372E-08"
        ixz="-7.18479952802838E-08"
        iyy="2.30487338651059E-06"
        iyz="-2.15091060266156E-06"
        izz="2.44021869232174E-06" />
    </inertial>
    <visual>
      <origin
        xyz="0 0 0"
        rpy="0 0 0" />
      <geometry>
        <mesh
          filename="package://mmsrobot_description/meshes/foot331.STL" />
      </geometry>
      <material
        name="">
        <color
          rgba="1 1 1 1" />
      </material>
    </visual>
    <collision>
      <origin
        xyz="0 0 0"
        rpy="0 0 0" />
      <geometry>
        <mesh
          filename="package://mmsrobot_description/meshes/foot331.STL" />
      </geometry>
    </collision>
  </link>
  <joint
    name="foot_re331"
    type="continuous">
    <origin
      xyz="-0.0505000080960214 -0.0975582637637435 -0.0371804653052983"
      rpy="1.07088804214659 -6.18425080678096E-08 -3.14159260600019" />
    <parent
      link="foot32" />
    <child
      link="foot331" />
    <axis
      xyz="-0.999999999999995 0 0" />
  </joint>
  <link
    name="foot332">
    <inertial>
      <origin
        xyz="-0.004 -0.0325822444682183 0.00523424735881462"
        rpy="0 0 0" />
      <mass
        value="0.00704964418718946" />
      <inertia
        ixx="3.32114514170303E-06"
        ixy="-2.66706634650849E-22"
        ixz="3.39153233487678E-23"
        iyy="2.00919395913321E-07"
        iyz="4.93802364856972E-07"
        izz="3.19542195045306E-06" />
    </inertial>
    <visual>
      <origin
        xyz="0 0 0"
        rpy="0 0 0" />
      <geometry>
        <mesh
          filename="package://mmsrobot_description/meshes/foot332.STL" />
      </geometry>
      <material
        name="">
        <color
          rgba="1 1 1 1" />
      </material>
    </visual>
    <collision>
      <origin
        xyz="0 0 0"
        rpy="0 0 0" />
      <geometry>
        <mesh
          filename="package://mmsrobot_description/meshes/foot332.STL" />
      </geometry>
    </collision>
  </link>
  <joint
    name="foot_re332"
    type="continuous">
    <origin
      xyz="0.00800000000005496 0.0466790235781586 0.0452334915497924"
      rpy="-6.73976650877873E-08 4.74921476144021E-15 -6.39035238203255E-14" />
    <parent
      link="foot331" />
    <child
      link="foot332" />
    <axis
      xyz="-0.999999999999995 0 0" />
  </joint>
  <link
    name="foot333">
    <inertial>
      <origin
        xyz="0.0208176067792103 0.0304493675220227 0.0212035907672144"
        rpy="0 0 0" />
      <mass
        value="0.0890584968216806" />
      <inertia
        ixx="0.000436032424062716"
        ixy="-3.16037313185803E-05"
        ixz="-1.08719223657577E-05"
        iyy="0.000440772216869467"
        iyz="-8.19697013475379E-05"
        izz="0.000125390609290481" />
    </inertial>
    <visual>
      <origin
        xyz="0 0 0"
        rpy="0 0 0" />
      <geometry>
        <mesh
          filename="package://mmsrobot_description/meshes/foot333.STL" />
      </geometry>
      <material
        name="">
        <color
          rgba="1 1 1 1" />
      </material>
    </visual>
    <collision>
      <origin
        xyz="0 0 0"
        rpy="0 0 0" />
      <geometry>
        <mesh
          filename="package://mmsrobot_description/meshes/foot333.STL" />
      </geometry>
    </collision>
  </link>
  <joint
    name="foot_re333"
    type="continuous">
    <origin
      xyz="0 -0.0651644889364366 0.0104684947176293"
      rpy="-2.77555756156289E-17 0 -4.3426982159034E-24" />
    <parent
      link="foot332" />
    <child
      link="foot333" />
    <axis
      xyz="-0.999999999999995 0 0" />
  </joint>
  <link
    name="fly00">
    <inertial>
      <origin
        xyz="-1.86200269087321E-18 -6.69369084086522E-18 0.00372818247501912"
        rpy="0 0 0" />
      <mass
        value="0.0149165929307992" />
      <inertia
        ixx="2.81705997712243E-06"
        ixy="3.30455725474894E-22"
        ixz="1.71290002570524E-22"
        iyy="2.78486395566149E-06"
        iyz="-5.32492003519503E-22"
        izz="5.22358275980823E-06" />
    </inertial>
    <visual>
      <origin
        xyz="0 0 0"
        rpy="0 0 0" />
      <geometry>
        <mesh
          filename="package://mmsrobot_description/meshes/fly00.STL" />
      </geometry>
      <material
        name="">
        <color
          rgba="1 1 1 1" />
      </material>
    </visual>
    <collision>
      <origin
        xyz="0 0 0"
        rpy="0 0 0" />
      <geometry>
        <mesh
          filename="package://mmsrobot_description/meshes/fly00.STL" />
      </geometry>
    </collision>
  </link>
  <joint
    name="fly_pr00"
    type="prismatic">
    <origin
      xyz="0 0 0.0601692709922874"
      rpy="0 0 3.14159265358979" />
    <parent
      link="base_link0" />
    <child
      link="fly00" />
    <axis
      xyz="0 0 1" />
   <limit effort="0" lower="0" upper="0" velocity="0"/>
  </joint>
  <link
    name="fly01">
    <inertial>
      <origin
        xyz="-0.0144999999999987 -0.0106653645038527 -0.00699999999999879"
        rpy="0 0 0" />
      <mass
        value="0.00190995574287564" />
      <inertia
        ixx="1.06820940668435E-07"
        ixy="-1.16952702990974E-07"
        ixz="-3.21276949915596E-21"
        iyy="1.79799262448452E-07"
        iyz="-2.72638729897478E-21"
        izz="2.78662054188238E-07" />
    </inertial>
    <visual>
      <origin
        xyz="0 0 0"
        rpy="0 0 0" />
      <geometry>
        <mesh
          filename="package://mmsrobot_description/meshes/fly01.STL" />
      </geometry>
      <material
        name="">
        <color
          rgba="1 1 1 1" />
      </material>
    </visual>
    <collision>
      <origin
        xyz="0 0 0"
        rpy="0 0 0" />
      <geometry>
        <mesh
          filename="package://mmsrobot_description/meshes/fly01.STL" />
      </geometry>
    </collision>
  </link>
  <joint
    name="fly_re01"
    type="continuous">
    <origin
      xyz="-0.0173241161390704 -0.00742462120245876 0.01"
      rpy="-1.5707963267949 0 0.785398163397449" />
    <parent
      link="fly00" />
    <child
      link="fly01" />
    <axis
      xyz="0 0 -1" />
  </joint>
  <link
    name="fly011">
    <inertial>
      <origin
        xyz="-0.0571576264001395 -0.0139277316226705 -0.00269571545852544"
        rpy="0 0 0" />
      <mass
        value="0.0618238302728455" />
      <inertia
        ixx="1.59855728428626E-05"
        ixy="1.00611978932637E-05"
        ixz="-8.79589818405293E-06"
        iyy="0.000384511246644149"
        iyz="1.42944607167839E-06"
        izz="0.000378845501044351" />
    </inertial>
    <visual>
      <origin
        xyz="0 0 0"
        rpy="0 0 0" />
      <geometry>
        <mesh
          filename="package://mmsrobot_description/meshes/fly011.STL" />
      </geometry>
      <material
        name="">
        <color
          rgba="1 1 1 1" />
      </material>
    </visual>
    <collision>
      <origin
        xyz="0 0 0"
        rpy="0 0 0" />
      <geometry>
        <mesh
          filename="package://mmsrobot_description/meshes/fly011.STL" />
      </geometry>
    </collision>
  </link>
  <joint
    name="fly_re011"
    type="continuous">
    <origin
      xyz="-0.0290000000000145 -0.0213307290077559 -0.00100000000015494"
      rpy="-3.00972446453705E-14 -2.29871677248639E-13 3.00972446453774E-14" />
    <parent
      link="fly01" />
    <child
      link="fly011" />
    <axis
      xyz="0 0 -1" />
  </joint>
  <link
    name="fly012">
    <inertial>
      <origin
        xyz="0.0219258214324333 0.0232923321030922 0.300209915335201"
        rpy="0 0 0" />
      <mass
        value="0.135433125107076" />
      <inertia
        ixx="0.000561922446552681"
        ixy="-2.3413130807388E-07"
        ixz="-1.36220763108438E-06"
        iyy="0.000560874491991706"
        iyz="-6.86149351607036E-05"
        izz="4.95915405805575E-05" />
    </inertial>
    <visual>
      <origin
        xyz="0 0 0"
        rpy="0 0 0" />
      <geometry>
        <mesh
          filename="package://mmsrobot_description/meshes/fly012.STL" />
      </geometry>
      <material
        name="">
        <color
          rgba="1 1 1 1" />
      </material>
    </visual>
    <collision>
      <origin
        xyz="0 0 0"
        rpy="0 0 0" />
      <geometry>
        <mesh
          filename="package://mmsrobot_description/meshes/fly012.STL" />
      </geometry>
    </collision>
  </link>
  <joint
    name="fly_pr012"
    type="prismatic">
    <origin
      xyz="0.0165999999999953 -0.0219999999999932 0.015999999999919"
      rpy="-1.57079632679487 1.57079630572147 1.57079632679487" />
    <parent
      link="fly011" />
    <child
      link="fly012" />
    <axis
      xyz="0 0 -1" />
    <limit effort="0" lower="0" upper="0" velocity="0"/>
  </joint>
  <link
    name="fly013">
    <inertial>
      <origin
        xyz="-1.11022302462516E-16 -5.55111512312578E-17 0.0198229891235514"
        rpy="0 0 0" />
      <mass
        value="0.0288269752279934" />
      <inertia
        ixx="8.30042087980774E-06"
        ixy="2.50735561554064E-07"
        ixz="-6.17525034586867E-21"
        iyy="8.30042087980763E-06"
        iyz="-1.91286056494287E-21"
        izz="1.09604806281821E-05" />
    </inertial>
    <visual>
      <origin
        xyz="0 0 0"
        rpy="0 0 0" />
      <geometry>
        <mesh
          filename="package://mmsrobot_description/meshes/fly013.STL" />
      </geometry>
      <material
        name="">
        <color
          rgba="1 1 1 1" />
      </material>
    </visual>
    <collision>
      <origin
        xyz="0 0 0"
        rpy="0 0 0" />
      <geometry>
        <mesh
          filename="package://mmsrobot_description/meshes/fly013.STL" />
      </geometry>
    </collision>
  </link>
  <joint
    name="fly_re013"
    type="continuous">
    <origin
      xyz="0.0219999999998283 0.0355232009887402 0.342099999999794"
      rpy="-1.57079632679507 0.785398163397218 -1.74493176037699E-12" />
    <parent
      link="fly012" />
    <child
      link="fly013" />
    <axis
      xyz="0 0 1" />
  </joint>
  <link
    name="fly0141">
    <inertial>
      <origin
        xyz="-0.0654874636139443 0.0438405484892653 -0.0059502384297089"
        rpy="0 0 0" />
      <mass
        value="0.0174870156064026" />
      <inertia
        ixx="1.28342928899753E-05"
        ixy="1.87004069799485E-05"
        ixz="-1.10473146057048E-07"
        iyy="3.20840637867587E-05"
        iyz="2.70306652387725E-07"
        izz="4.48301855542646E-05" />
    </inertial>
    <visual>
      <origin
        xyz="0 0 0"
        rpy="0 0 0" />
      <geometry>
        <mesh
          filename="package://mmsrobot_description/meshes/fly0141.STL" />
      </geometry>
      <material
        name="">
        <color
          rgba="1 1 1 1" />
      </material>
    </visual>
    <collision>
      <origin
        xyz="0 0 0"
        rpy="0 0 0" />
      <geometry>
        <mesh
          filename="package://mmsrobot_description/meshes/fly0141.STL" />
      </geometry>
    </collision>
  </link>
  <joint
    name="fly_re0141"
    type="continuous">
    <origin
      xyz="-0.0129223764261827 0.0129223764261857 0.04088"
      rpy="0 0 0" />
    <parent
      link="fly013" />
    <child
      link="fly0141" />
    <axis
      xyz="0 0 1" />
  </joint>
  <link
    name="fly0142">
    <inertial>
      <origin
        xyz="0.0703667688727377 -0.0354841222877348 -0.00595022650714011"
        rpy="0 0 0" />
      <mass
        value="0.0174869821130905" />
      <inertia
        ixx="8.57428123194371E-06"
        ixy="1.5797271590434E-05"
        ixz="1.42772183004305E-07"
        iyy="3.63440740394588E-05"
        iyz="-2.54730171516491E-07"
        izz="4.48301839983647E-05" />
    </inertial>
    <visual>
      <origin
        xyz="0 0 0"
        rpy="0 0 0" />
      <geometry>
        <mesh
          filename="package://mmsrobot_description/meshes/fly0142.STL" />
      </geometry>
      <material
        name="">
        <color
          rgba="1 1 1 1" />
      </material>
    </visual>
    <collision>
      <origin
        xyz="0 0 0"
        rpy="0 0 0" />
      <geometry>
        <mesh
          filename="package://mmsrobot_description/meshes/fly0142.STL" />
      </geometry>
    </collision>
  </link>
  <joint
    name="fly_re0142"
    type="continuous">
    <origin
      xyz="0.0129223764261827 -0.0129223764261856 0.04088"
      rpy="0 0 0" />
    <parent
      link="fly013" />
    <child
      link="fly0142" />
    <axis
      xyz="0 0 1" />
  </joint>
  <link
    name="fly02">
    <inertial>
      <origin
        xyz="-0.0144999999999963 -0.0106653645038597 -0.0070000000000033"
        rpy="0 0 0" />
      <mass
        value="0.00190995574287564" />
      <inertia
        ixx="1.06820940668508E-07"
        ixy="-1.16952702990997E-07"
        ixz="-3.7156953115882E-21"
        iyy="1.79799262448378E-07"
        iyz="-3.12343399300023E-21"
        izz="2.78662054188238E-07" />
    </inertial>
    <visual>
      <origin
        xyz="0 0 0"
        rpy="0 0 0" />
      <geometry>
        <mesh
          filename="package://mmsrobot_description/meshes/fly02.STL" />
      </geometry>
      <material
        name="">
        <color
          rgba="1 1 1 1" />
      </material>
    </visual>
    <collision>
      <origin
        xyz="0 0 0"
        rpy="0 0 0" />
      <geometry>
        <mesh
          filename="package://mmsrobot_description/meshes/fly02.STL" />
      </geometry>
    </collision>
  </link>
  <joint
    name="fly_re02"
    type="continuous">
    <origin
      xyz="-0.00742462120245875 0.0173241161390704 0.01"
      rpy="-1.5707963267949 0 -0.785398163397448" />
    <parent
      link="fly00" />
    <child
      link="fly02" />
    <axis
      xyz="0 0 1" />
  </joint>
  <link
    name="fly021">
    <inertial>
      <origin
        xyz="-0.0571576264001367 -0.013927731622682 -0.00269571545852549"
        rpy="0 0 0" />
      <mass
        value="0.0618238302728455" />
      <inertia
        ixx="1.59855728428585E-05"
        ixy="1.00611978931892E-05"
        ixz="-8.79589818405328E-06"
        iyy="0.000384511246644153"
        iyz="1.42944607167661E-06"
        izz="0.000378845501044351" />
    </inertial>
    <visual>
      <origin
        xyz="0 0 0"
        rpy="0 0 0" />
      <geometry>
        <mesh
          filename="package://mmsrobot_description/meshes/fly021.STL" />
      </geometry>
      <material
        name="">
        <color
          rgba="1 1 1 1" />
      </material>
    </visual>
    <collision>
      <origin
        xyz="0 0 0"
        rpy="0 0 0" />
      <geometry>
        <mesh
          filename="package://mmsrobot_description/meshes/fly021.STL" />
      </geometry>
    </collision>
  </link>
  <joint
    name="fly_re021"
    type="continuous">
    <origin
      xyz="-0.0289999999999967 -0.0213307290077376 -0.00100000000015069"
      rpy="-3.07099635794471E-14 -2.36755060001315E-13 -3.07099635794398E-14" />
    <parent
      link="fly02" />
    <child
      link="fly021" />
    <axis
      xyz="0 0 1" />
  </joint>
  <link
    name="fly022">
    <inertial>
      <origin
        xyz="0.0219258214324908 0.0232923321030201 0.300209915335203"
        rpy="0 0 0" />
      <mass
        value="0.135433125107076" />
      <inertia
        ixx="0.00056192244655268"
        ixy="-2.34131308075786E-07"
        ixz="-1.36220763122337E-06"
        iyy="0.000560874491991706"
        iyz="-6.86149351607008E-05"
        izz="4.95915405805574E-05" />
    </inertial>
    <visual>
      <origin
        xyz="0 0 0"
        rpy="0 0 0" />
      <geometry>
        <mesh
          filename="package://mmsrobot_description/meshes/fly022.STL" />
      </geometry>
      <material
        name="">
        <color
          rgba="1 1 1 1" />
      </material>
    </visual>
    <collision>
      <origin
        xyz="0 0 0"
        rpy="0 0 0" />
      <geometry>
        <mesh
          filename="package://mmsrobot_description/meshes/fly022.STL" />
      </geometry>
    </collision>
  </link>
  <joint
    name="fly_pr022"
    type="prismatic">
    <origin
      xyz="0.0165999999999998 -0.0219999999999898 0.015999999999919"
      rpy="3.14159265358979 1.5707963267949 0" />
    <parent
      link="fly021" />
    <child
      link="fly022" />
    <axis
      xyz="0 0 -1" />
    <limit effort="0" lower="0" upper="0" velocity="0"/>
  </joint>
  <link
    name="fly023">
    <inertial>
      <origin
        xyz="0 0 0.0198229891235514"
        rpy="0 0 0" />
      <mass
        value="0.0288269752279933" />
      <inertia
        ixx="8.3004208798076E-06"
        ixy="-2.50735561554063E-07"
        ixz="8.46299161661411E-21"
        iyy="8.30042087980772E-06"
        iyz="5.98067979260083E-21"
        izz="1.0960480628182E-05" />
    </inertial>
    <visual>
      <origin
        xyz="0 0 0"
        rpy="0 0 0" />
      <geometry>
        <mesh
          filename="package://mmsrobot_description/meshes/fly023.STL" />
      </geometry>
      <material
        name="">
        <color
          rgba="1 1 1 1" />
      </material>
    </visual>
    <collision>
      <origin
        xyz="0 0 0"
        rpy="0 0 0" />
      <geometry>
        <mesh
          filename="package://mmsrobot_description/meshes/fly023.STL" />
      </geometry>
    </collision>
  </link>
  <joint
    name="fly_re023"
    type="continuous">
    <origin
      xyz="0.0219999999999108 0.035523200988668 0.342099999999796"
      rpy="1.57079632679507 0.785398163397685 3.14159265358624" />
    <parent
      link="fly022" />
    <child
      link="fly023" />
    <axis
      xyz="0 0 1" />
  </joint>
  <link
    name="fly0241">
    <inertial>
      <origin
        xyz="0.0438405481090783 0.0654874631857417 -0.00595023839934394"
        rpy="0 0 0" />
      <mass
        value="0.0174870158250146" />
      <inertia
        ixx="3.20840640828562E-05"
        ixy="-1.8700407236614E-05"
        ixz="2.70306670289065E-07"
        iyy="1.28342931157139E-05"
        iyz="1.10473166494798E-07"
        izz="4.48301860728713E-05" />
    </inertial>
    <visual>
      <origin
        xyz="0 0 0"
        rpy="0 0 0" />
      <geometry>
        <mesh
          filename="package://mmsrobot_description/meshes/fly0241.STL" />
      </geometry>
      <material
        name="">
        <color
          rgba="1 1 1 1" />
      </material>
    </visual>
    <collision>
      <origin
        xyz="0 0 0"
        rpy="0 0 0" />
      <geometry>
        <mesh
          filename="package://mmsrobot_description/meshes/fly0241.STL" />
      </geometry>
    </collision>
  </link>
  <joint
    name="fly_re0241"
    type="continuous">
    <origin
      xyz="0.0129223764261855 0.0129223764261827 0.04088"
      rpy="0 0 0" />
    <parent
      link="fly023" />
    <child
      link="fly0241" />
    <axis
      xyz="0 0 1" />
  </joint>
  <link
    name="fly0242">
    <inertial>
      <origin
        xyz="-0.0354841226142339 -0.0703667693482801 -0.0059502265377166"
        rpy="0 0 0" />
      <mass
        value="0.0174869818929815" />
      <inertia
        ixx="3.63440736788385E-05"
        ixy="-1.57972713484027E-05"
        ixz="-2.54730156166789E-07"
        iyy="8.57428106684797E-06"
        iyz="-1.42772160346485E-07"
        izz="4.48301834759005E-05" />
    </inertial>
    <visual>
      <origin
        xyz="0 0 0"
        rpy="0 0 0" />
      <geometry>
        <mesh
          filename="package://mmsrobot_description/meshes/fly0242.STL" />
      </geometry>
      <material
        name="">
        <color
          rgba="1 1 1 1" />
      </material>
    </visual>
    <collision>
      <origin
        xyz="0 0 0"
        rpy="0 0 0" />
      <geometry>
        <mesh
          filename="package://mmsrobot_description/meshes/fly0242.STL" />
      </geometry>
    </collision>
  </link>
  <joint
    name="fly_re0242"
    type="continuous">
    <origin
      xyz="-0.0129223764261856 -0.0129223764261827 0.04088"
      rpy="0 0 0" />
    <parent
      link="fly023" />
    <child
      link="fly0242" />
    <axis
      xyz="0 0 1" />
  </joint>
  <link
    name="fly03">
    <inertial>
      <origin
        xyz="0.0145000000000078 0.0106653645038575 -0.00699999999999853"
        rpy="0 0 0" />
      <mass
        value="0.00190995574287564" />
      <inertia
        ixx="1.06820940668499E-07"
        ixy="-1.16952702990994E-07"
        ixz="-3.20946077670575E-21"
        iyy="1.79799262448388E-07"
        iyz="-2.76609196837732E-21"
        izz="2.78662054188238E-07" />
    </inertial>
    <visual>
      <origin
        xyz="0 0 0"
        rpy="0 0 0" />
      <geometry>
        <mesh
          filename="package://mmsrobot_description/meshes/fly03.STL" />
      </geometry>
      <material
        name="">
        <color
          rgba="1 1 1 1" />
      </material>
    </visual>
    <collision>
      <origin
        xyz="0 0 0"
        rpy="0 0 0" />
      <geometry>
        <mesh
          filename="package://mmsrobot_description/meshes/fly03.STL" />
      </geometry>
    </collision>
  </link>
  <joint
    name="fly_re03"
    type="continuous">
    <origin
      xyz="0.00742462120245875 -0.0173241161390704 0.01"
      rpy="1.5707963267949 0 -0.785398163397448" />
    <parent
      link="fly00" />
    <child
      link="fly03" />
    <axis
      xyz="0 0 -1" />
  </joint>
  <link
    name="fly031">
    <inertial>
      <origin
        xyz="0.0571576264001357 0.013927731622686 -0.00269571545852543"
        rpy="0 0 0" />
      <mass
        value="0.0618238302728455" />
      <inertia
        ixx="1.59855728428572E-05"
        ixy="1.00611978931635E-05"
        ixz="8.79589818405324E-06"
        iyy="0.000384511246644155"
        iyz="-1.42944607167599E-06"
        izz="0.00037884550104435" />
    </inertial>
    <visual>
      <origin
        xyz="0 0 0"
        rpy="0 0 0" />
      <geometry>
        <mesh
          filename="package://mmsrobot_description/meshes/fly031.STL" />
      </geometry>
      <material
        name="">
        <color
          rgba="1 1 1 1" />
      </material>
    </visual>
    <collision>
      <origin
        xyz="0 0 0"
        rpy="0 0 0" />
      <geometry>
        <mesh
          filename="package://mmsrobot_description/meshes/fly031.STL" />
      </geometry>
    </collision>
  </link>
  <joint
    name="fly_re031"
    type="continuous">
    <origin
      xyz="0.0289999999999947 0.0213307290076976 -0.000999999999861778"
      rpy="7.66517785473267E-15 5.26800825184637E-14 -7.66517785473226E-15" />
    <parent
      link="fly03" />
    <child
      link="fly031" />
    <axis
      xyz="0 0 -1" />
  </joint>
  <link
    name="fly032">
    <inertial>
      <origin
        xyz="0.0219258214327247 0.0232923321030787 0.299209915335241"
        rpy="0 0 0" />
      <mass
        value="0.135433125107076" />
      <inertia
        ixx="0.000561922446552682"
        ixy="-2.34131308081286E-07"
        ixz="-1.36220763094325E-06"
        iyy="0.000560874491991701"
        iyz="-6.86149351607194E-05"
        izz="4.95915405805608E-05" />
    </inertial>
    <visual>
      <origin
        xyz="0 0 0"
        rpy="0 0 0" />
      <geometry>
        <mesh
          filename="package://mmsrobot_description/meshes/fly032.STL" />
      </geometry>
      <material
        name="">
        <color
          rgba="1 1 1 1" />
      </material>
    </visual>
    <collision>
      <origin
        xyz="0 0 0"
        rpy="0 0 0" />
      <geometry>
        <mesh
          filename="package://mmsrobot_description/meshes/fly032.STL" />
      </geometry>
    </collision>
  </link>
  <joint
    name="fly_pr032"
    type="prismatic">
    <origin
      xyz="-0.0156000000000013 0.0219999999999889 0.0159999999999193"
      rpy="1.57040033081946 1.57079630572147 1.57040033081947" />
    <parent
      link="fly031" />
    <child
      link="fly032" />
    <axis
      xyz="0 0 -1" />
    <limit effort="0" lower="0" upper="0" velocity="0"/>
  </joint>
  <link
    name="fly033">
    <inertial>
      <origin
        xyz="5.55111512312578E-17 0 0.0198229891235514"
        rpy="0 0 0" />
      <mass
        value="0.0288269752279934" />
      <inertia
        ixx="8.30042087980761E-06"
        ixy="-2.50735561554064E-07"
        ixz="3.93790676248771E-21"
        iyy="8.30042087980774E-06"
        iyz="-7.26342235408824E-21"
        izz="1.09604806281821E-05" />
    </inertial>
    <visual>
      <origin
        xyz="0 0 0"
        rpy="0 0 0" />
      <geometry>
        <mesh
          filename="package://mmsrobot_description/meshes/fly033.STL" />
      </geometry>
      <material
        name="">
        <color
          rgba="1 1 1 1" />
      </material>
    </visual>
    <collision>
      <origin
        xyz="0 0 0"
        rpy="0 0 0" />
      <geometry>
        <mesh
          filename="package://mmsrobot_description/meshes/fly033.STL" />
      </geometry>
    </collision>
  </link>
  <joint
    name="fly_re033"
    type="continuous">
    <origin
      xyz="0.0220000000000868 0.0355232009887279 0.341099999999834"
      rpy="-1.5707963267951 -0.785398163397501 1.74282547521099E-12" />
    <parent
      link="fly032" />
    <child
      link="fly033" />
    <axis
      xyz="0 0 1" />
  </joint>
  <link
    name="fly0341">
    <inertial>
      <origin
        xyz="-0.0438405481090801 -0.0654874631857413 -0.00595023839934389"
        rpy="0 0 0" />
      <mass
        value="0.0174870158250148" />
      <inertia
        ixx="3.20840640828561E-05"
        ixy="-1.8700407236615E-05"
        ixz="-2.70306670289053E-07"
        iyy="1.28342931157151E-05"
        iyz="-1.1047316649479E-07"
        izz="4.48301860728725E-05" />
    </inertial>
    <visual>
      <origin
        xyz="0 0 0"
        rpy="0 0 0" />
      <geometry>
        <mesh
          filename="package://mmsrobot_description/meshes/fly0341.STL" />
      </geometry>
      <material
        name="">
        <color
          rgba="1 1 1 1" />
      </material>
    </visual>
    <collision>
      <origin
        xyz="0 0 0"
        rpy="0 0 0" />
      <geometry>
        <mesh
          filename="package://mmsrobot_description/meshes/fly0341.STL" />
      </geometry>
    </collision>
  </link>
  <joint
    name="fly_re0341"
    type="continuous">
    <origin
      xyz="-0.0129223764261858 -0.0129223764261824 0.04088"
      rpy="0 0 0" />
    <parent
      link="fly033" />
    <child
      link="fly0341" />
    <axis
      xyz="0 0 1" />
  </joint>
  <link
    name="fly0342">
    <inertial>
      <origin
        xyz="0.0354841224228126 0.0703667690679587 -0.00595022651726582"
        rpy="0 0 0" />
      <mass
        value="0.0174869820226907" />
      <inertia
        ixx="3.63440738915775E-05"
        ixy="-1.57972714903604E-05"
        ixz="2.54730166371493E-07"
        iyy="8.57428116329378E-06"
        iyz="1.42772175464524E-07"
        izz="4.48301837829605E-05" />
    </inertial>
    <visual>
      <origin
        xyz="0 0 0"
        rpy="0 0 0" />
      <geometry>
        <mesh
          filename="package://mmsrobot_description/meshes/fly0342.STL" />
      </geometry>
      <material
        name="">
        <color
          rgba="1 1 1 1" />
      </material>
    </visual>
    <collision>
      <origin
        xyz="0 0 0"
        rpy="0 0 0" />
      <geometry>
        <mesh
          filename="package://mmsrobot_description/meshes/fly0342.STL" />
      </geometry>
    </collision>
  </link>
  <joint
    name="fly_re0342"
    type="continuous">
    <origin
      xyz="0.0129223764261859 0.0129223764261824 0.04088"
      rpy="0 0 0" />
    <parent
      link="fly033" />
    <child
      link="fly0342" />
    <axis
      xyz="0 0 1" />
  </joint>
  <link
    name="fly04">
    <inertial>
      <origin
        xyz="0.0145000000000082 0.0106653645038544 -0.00700000000000079"
        rpy="0 0 0" />
      <mass
        value="0.00190995574287564" />
      <inertia
        ixx="1.06820940668393E-07"
        ixy="-1.16952702990961E-07"
        ixz="-2.61719945811778E-21"
        iyy="1.79799262448494E-07"
        iyz="-2.3227231600489E-21"
        izz="2.78662054188238E-07" />
    </inertial>
    <visual>
      <origin
        xyz="0 0 0"
        rpy="0 0 0" />
      <geometry>
        <mesh
          filename="package://mmsrobot_description/meshes/fly04.STL" />
      </geometry>
      <material
        name="">
        <color
          rgba="1 1 1 1" />
      </material>
    </visual>
    <collision>
      <origin
        xyz="0 0 0"
        rpy="0 0 0" />
      <geometry>
        <mesh
          filename="package://mmsrobot_description/meshes/fly04.STL" />
      </geometry>
    </collision>
  </link>
  <joint
    name="fly_re04"
    type="continuous">
    <origin
      xyz="0.0173241161390704 0.00742462120245876 0.01"
      rpy="1.5707963267949 0 0.785398163397449" />
    <parent
      link="fly00" />
    <child
      link="fly04" />
    <axis
      xyz="0 0 1" />
  </joint>
  <link
    name="fly041">
    <inertial>
      <origin
        xyz="0.0571576264001359 0.0139277316226852 -0.00269571545852545"
        rpy="0 0 0" />
      <mass
        value="0.0618238302728456" />
      <inertia
        ixx="1.59855728428574E-05"
        ixy="1.00611978931691E-05"
        ixz="8.79589818405328E-06"
        iyy="0.000384511246644155"
        iyz="-1.42944607167613E-06"
        izz="0.000378845501044351" />
    </inertial>
    <visual>
      <origin
        xyz="0 0 0"
        rpy="0 0 0" />
      <geometry>
        <mesh
          filename="package://mmsrobot_description/meshes/fly041.STL" />
      </geometry>
      <material
        name="">
        <color
          rgba="1 1 1 1" />
      </material>
    </visual>
    <collision>
      <origin
        xyz="0 0 0"
        rpy="0 0 0" />
      <geometry>
        <mesh
          filename="package://mmsrobot_description/meshes/fly041.STL" />
      </geometry>
    </collision>
  </link>
  <joint
    name="fly_re041"
    type="continuous">
    <origin
      xyz="0.0290000000000231 0.021330729007757 -0.00100000000014934"
      rpy="3.11450542399179E-14 2.30704344517108E-13 3.11450542399251E-14" />
    <parent
      link="fly04" />
    <child
      link="fly041" />
    <axis
      xyz="0 0 1" />
  </joint>
  <link
    name="fly042">
    <inertial>
      <origin
        xyz="0.0219258214323954 0.0232923321030828 0.300209915335201"
        rpy="0 0 0" />
      <mass
        value="0.135433125107076" />
      <inertia
        ixx="0.000561922446552682"
        ixy="-2.34131308071421E-07"
        ixz="-1.36220763090587E-06"
        iyy="0.000560874491991704"
        iyz="-6.86149351607071E-05"
        izz="4.95915405805574E-05" />
    </inertial>
    <visual>
      <origin
        xyz="0 0 0"
        rpy="0 0 0" />
      <geometry>
        <mesh
          filename="package://mmsrobot_description/meshes/fly042.STL" />
      </geometry>
      <material
        name="">
        <color
          rgba="1 1 1 1" />
      </material>
    </visual>
    <collision>
      <origin
        xyz="0 0 0"
        rpy="0 0 0" />
      <geometry>
        <mesh
          filename="package://mmsrobot_description/meshes/fly042.STL" />
      </geometry>
    </collision>
  </link>
  <joint
    name="fly_pr042"
    type="prismatic">
    <origin
      xyz="-0.016600000000001 0.0219999999999889 0.015999999999919"
      rpy="-1.57042081148916 1.57079631189374 -1.57042081148922" />
    <parent
      link="fly041" />
    <child
      link="fly042" />
    <axis
      xyz="0 0 1" />
    <limit effort="0" lower="0" upper="0" velocity="0"/>
  </joint>
  <link
    name="fly043">
    <inertial>
      <origin
        xyz="1.2490009027033E-14 -8.32667268468867E-15 0.0198229891235514"
        rpy="0 0 0" />
      <mass
        value="0.0288269752279934" />
      <inertia
        ixx="8.30042087980773E-06"
        ixy="2.50735561554066E-07"
        ixz="1.77689617383195E-18"
        iyy="8.30042087980762E-06"
        iyz="-1.28372073926551E-18"
        izz="1.09604806281821E-05" />
    </inertial>
    <visual>
      <origin
        xyz="0 0 0"
        rpy="0 0 0" />
      <geometry>
        <mesh
          filename="package://mmsrobot_description/meshes/fly043.STL" />
      </geometry>
      <material
        name="">
        <color
          rgba="1 1 1 1" />
      </material>
    </visual>
    <collision>
      <origin
        xyz="0 0 0"
        rpy="0 0 0" />
      <geometry>
        <mesh
          filename="package://mmsrobot_description/meshes/fly043.STL" />
      </geometry>
    </collision>
  </link>
  <joint
    name="fly_re043"
    type="continuous">
    <origin
      xyz="0.0219999999997584 0.0355232009887311 0.342099999999794"
      rpy="1.57079632679527 -0.785398163397217 3.14159265358979" />
    <parent
      link="fly042" />
    <child
      link="fly043" />
    <axis
      xyz="0 0 1" />
  </joint>
  <link
    name="fly0431">
    <inertial>
      <origin
        xyz="0.0654874636819158 -0.0438405485502552 -0.00595023843293649"
        rpy="0 0 0" />
      <mass
        value="0.0174870155716398" />
      <inertia
        ixx="1.28342928535357E-05"
        ixy="1.87004069388472E-05"
        ixz="1.10473143931596E-07"
        iyy="3.20840637398965E-05"
        iyz="-2.70306650499644E-07"
        izz="4.48301854713417E-05" />
    </inertial>
    <visual>
      <origin
        xyz="0 0 0"
        rpy="0 0 0" />
      <geometry>
        <mesh
          filename="package://mmsrobot_description/meshes/fly0431.STL" />
      </geometry>
      <material
        name="">
        <color
          rgba="1 1 1 1" />
      </material>
    </visual>
    <collision>
      <origin
        xyz="0 0 0"
        rpy="0 0 0" />
      <geometry>
        <mesh
          filename="package://mmsrobot_description/meshes/fly0431.STL" />
      </geometry>
    </collision>
  </link>
  <joint
    name="fly_re0431"
    type="continuous">
    <origin
      xyz="0.0129223764262084 -0.0129223764262028 0.0408799999999865"
      rpy="0 0 0" />
    <parent
      link="fly043" />
    <child
      link="fly0431" />
    <axis
      xyz="0 0 1" />
  </joint>
  <link
    name="fly0432">
    <inertial>
      <origin
        xyz="-0.0703667690679637 0.0354841224228135 -0.00595022651720678"
        rpy="0 0 0" />
      <mass
        value="0.0174869820226906" />
      <inertia
        ixx="8.57428116329266E-06"
        ixy="1.57972714903596E-05"
        ixz="-1.42772175435138E-07"
        iyy="3.63440738915776E-05"
        iyz="2.54730166358007E-07"
        izz="4.48301837829603E-05" />
    </inertial>
    <visual>
      <origin
        xyz="0 0 0"
        rpy="0 0 0" />
      <geometry>
        <mesh
          filename="package://mmsrobot_description/meshes/fly0432.STL" />
      </geometry>
      <material
        name="">
        <color
          rgba="1 1 1 1" />
      </material>
    </visual>
    <collision>
      <origin
        xyz="0 0 0"
        rpy="0 0 0" />
      <geometry>
        <mesh
          filename="package://mmsrobot_description/meshes/fly0432.STL" />
      </geometry>
    </collision>
  </link>
  <joint
    name="fly_re0432"
    type="continuous">
    <origin
      xyz="-0.0129223764261572 0.0129223764261683 0.0408800000000135"
      rpy="0 0 0" />
    <parent
      link="fly043" />
    <child
      link="fly0432" />
    <axis
      xyz="0 0 1" />
  </joint>
  <link
    name="fly11">
    <inertial>
      <origin
        xyz="-0.0135094306948948 0.0134116550283035 -0.013443123592163"
        rpy="0 0 0" />
      <mass
        value="0.0226304511848902" />
      <inertia
        ixx="6.82848302553049E-06"
        ixy="-2.93320474486277E-06"
        ixz="1.12725467056907E-06"
        iyy="1.60121122832438E-05"
        iyz="-3.28801401806955E-08"
        izz="1.44399859431576E-05" />
    </inertial>
    <visual>
      <origin
        xyz="0 0 0"
        rpy="0 0 0" />
      <geometry>
        <mesh
          filename="package://mmsrobot_description/meshes/fly11.STL" />
      </geometry>
      <material
        name="">
        <color
          rgba="1 1 1 1" />
      </material>
    </visual>
    <collision>
      <origin
        xyz="0 0 0"
        rpy="0 0 0" />
      <geometry>
        <mesh
          filename="package://mmsrobot_description/meshes/fly11.STL" />
      </geometry>
    </collision>
  </link>
  <joint
    name="fly_re11"
    type="continuous">
    <origin
      xyz="0.0137885822331375 0.0307591449816201 0.0914999999999919"
      rpy="1.5707963267949 0 -2.35619449019234" />
    <parent
      link="base_link0" />
    <child
      link="fly11" />
    <axis
      xyz="0 0 1" />
  </joint>
  <link
    name="fly12">
    <inertial>
      <origin
        xyz="-0.0135094306948734 0.0134116550282768 -0.0134431235921599"
        rpy="0 0 0" />
      <mass
        value="0.0226304511848902" />
      <inertia
        ixx="6.82848302552967E-06"
        ixy="-2.93320474486147E-06"
        ixz="1.12725467056912E-06"
        iyy="1.60121122832447E-05"
        iyz="-3.28801401808359E-08"
        izz="1.44399859431576E-05" />
    </inertial>
    <visual>
      <origin
        xyz="0 0 0"
        rpy="0 0 0" />
      <geometry>
        <mesh
          filename="package://mmsrobot_description/meshes/fly12.STL" />
      </geometry>
      <material
        name="">
        <color
          rgba="1 1 1 1" />
      </material>
    </visual>
    <collision>
      <origin
        xyz="0 0 0"
        rpy="0 0 0" />
      <geometry>
        <mesh
          filename="package://mmsrobot_description/meshes/fly12.STL" />
      </geometry>
    </collision>
  </link>
  <joint
    name="fly_re12"
    type="continuous">
    <origin
      xyz="0.0307591449816147 -0.0137885822331324 0.0915"
      rpy="1.5707963267949 0 2.35619449019235" />
    <parent
      link="base_link0" />
    <child
      link="fly12" />
    <axis
      xyz="0 0 -1" />
  </joint>
  <link
    name="fly13">
    <inertial>
      <origin
        xyz="0.0135094306948653 0.0134116550282366 -0.0105568764075428"
        rpy="0 0 0" />
      <mass
        value="0.0226304511848902" />
      <inertia
        ixx="6.82848302552871E-06"
        ixy="2.93320474486063E-06"
        ixz="1.12725467056764E-06"
        iyy="1.60121122832452E-05"
        iyz="3.28801401814449E-08"
        izz="1.44399859431579E-05" />
    </inertial>
    <visual>
      <origin
        xyz="0 0 0"
        rpy="0 0 0" />
      <geometry>
        <mesh
          filename="package://mmsrobot_description/meshes/fly13.STL" />
      </geometry>
      <material
        name="">
        <color
          rgba="1 1 1 1" />
      </material>
    </visual>
    <collision>
      <origin
        xyz="0 0 0"
        rpy="0 0 0" />
      <geometry>
        <mesh
          filename="package://mmsrobot_description/meshes/fly13.STL" />
      </geometry>
    </collision>
  </link>
  <joint
    name="fly_re13"
    type="continuous">
    <origin
      xyz="-0.0137885822331378 0.0307591449816201 0.0915"
      rpy="1.5707963267949 0 2.35619449019235" />
    <parent
      link="base_link0" />
    <child
      link="fly13" />
    <axis
      xyz="0 0 -1" />
  </joint>
  <link
    name="fly14">
    <inertial>
      <origin
        xyz="0.013509430694891 0.013411655028307 -0.0105568764078372"
        rpy="0 0 0" />
      <mass
        value="0.0226304511848902" />
      <inertia
        ixx="6.82848302552898E-06"
        ixy="2.9332047448604E-06"
        ixz="1.12725467056908E-06"
        iyy="1.60121122832453E-05"
        iyz="3.28801401809841E-08"
        izz="1.44399859431576E-05" />
    </inertial>
    <visual>
      <origin
        xyz="0 0 0"
        rpy="0 0 0" />
      <geometry>
        <mesh
          filename="package://mmsrobot_description/meshes/fly14.STL" />
      </geometry>
      <material
        name="">
        <color
          rgba="1 1 1 1" />
      </material>
    </visual>
    <collision>
      <origin
        xyz="0 0 0"
        rpy="0 0 0" />
      <geometry>
        <mesh
          filename="package://mmsrobot_description/meshes/fly14.STL" />
      </geometry>
    </collision>
  </link>
  <joint
    name="fly_re14"
    type="continuous">
    <origin
      xyz="-0.0307591449816149 -0.0137885822331324 0.0914999999999891"
      rpy="1.5707963267949 0 -2.35619449019234" />
    <parent
      link="base_link0" />
    <child
      link="fly14" />
    <axis
      xyz="0 0 1" />
  </joint>
  <gazebo>
  <plugin name="gazebo_ros_control" filename="libgazebo_ros_control.so">
    <robotNamespace>/mmsrobot</robotNamespace>
  </plugin>
  </gazebo>
  <transmission name="tran1">
    <type>transmission_interface/SimpleTransmission</type>
    <joint name="wheel_re1">
      <hardwareInterface>hardware_interface/EffortJointInterface</hardwareInterface>
    </joint>
    <actuator name="motor1">
      <hardwareInterface>hardware_interface/EffortJointInterface</hardwareInterface>
      <mechanicalReduction>1</mechanicalReduction>
    </actuator>
  </transmission>

  <transmission name="tran2">
    <type>transmission_interface/SimpleTransmission</type>
    <joint name="wheel_re2">
      <hardwareInterface>hardware_interface/EffortJointInterface</hardwareInterface>
    </joint>
    <actuator name="motor2">
      <hardwareInterface>hardware_interface/EffortJointInterface</hardwareInterface>
      <mechanicalReduction>1</mechanicalReduction>
    </actuator>
  </transmission>

  <transmission name="tran3">
    <type>transmission_interface/SimpleTransmission</type>
    <joint name="foot_re10">
      <hardwareInterface>hardware_interface/EffortJointInterface</hardwareInterface>
    </joint>
    <actuator name="motor3">
      <hardwareInterface>hardware_interface/EffortJointInterface</hardwareInterface>
      <mechanicalReduction>1</mechanicalReduction>
    </actuator>
  </transmission>

   <transmission name="tran4">
    <type>transmission_interface/SimpleTransmission</type>
    <joint name="foot_re11">
      <hardwareInterface>hardware_interface/EffortJointInterface</hardwareInterface>
    </joint>
    <actuator name="motor4">
      <hardwareInterface>hardware_interface/EffortJointInterface</hardwareInterface>
      <mechanicalReduction>1</mechanicalReduction>
    </actuator>
  </transmission>

  <transmission name="tran5">
    <type>transmission_interface/SimpleTransmission</type>
    <joint name="foot_re12">
      <hardwareInterface>hardware_interface/EffortJointInterface</hardwareInterface>
    </joint>
    <actuator name="motor5">
      <hardwareInterface>hardware_interface/EffortJointInterface</hardwareInterface>
      <mechanicalReduction>1</mechanicalReduction>
    </actuator>
  </transmission>

  <transmission name="tran6">
    <type>transmission_interface/SimpleTransmission</type>
    <joint name="foot_re131">
      <hardwareInterface>hardware_interface/EffortJointInterface</hardwareInterface>
    </joint>
    <actuator name="motor6">
      <hardwareInterface>hardware_interface/EffortJointInterface</hardwareInterface>
      <mechanicalReduction>1</mechanicalReduction>
    </actuator>
  </transmission>

  <transmission name="tran7">
    <type>transmission_interface/SimpleTransmission</type>
    <joint name="foot_re21">
      <hardwareInterface>hardware_interface/EffortJointInterface</hardwareInterface>
    </joint>
    <actuator name="motor7">
      <hardwareInterface>hardware_interface/EffortJointInterface</hardwareInterface>
      <mechanicalReduction>1</mechanicalReduction>
    </actuator>
  </transmission>

  <transmission name="tran8">
    <type>transmission_interface/SimpleTransmission</type>
    <joint name="foot_re22">
      <hardwareInterface>hardware_interface/EffortJointInterface</hardwareInterface>
    </joint>
    <actuator name="motor8">
      <hardwareInterface>hardware_interface/EffortJointInterface</hardwareInterface>
      <mechanicalReduction>1</mechanicalReduction>
    </actuator>
  </transmission>
  <transmission name="tran9">
    <type>transmission_interface/SimpleTransmission</type>
    <joint name="foot_re231">
      <hardwareInterface>hardware_interface/EffortJointInterface</hardwareInterface>
    </joint>
    <actuator name="motor9">
      <hardwareInterface>hardware_interface/EffortJointInterface</hardwareInterface>
      <mechanicalReduction>1</mechanicalReduction>
    </actuator>
  </transmission>

  <transmission name="tran10">
    <type>transmission_interface/SimpleTransmission</type>
    <joint name="foot_re30">
      <hardwareInterface>hardware_interface/EffortJointInterface</hardwareInterface>
    </joint>
    <actuator name="motor10">
      <hardwareInterface>hardware_interface/EffortJointInterface</hardwareInterface>
      <mechanicalReduction>1</mechanicalReduction>
    </actuator>
  </transmission>

  <transmission name="tran11">
    <type>transmission_interface/SimpleTransmission</type>
    <joint name="foot_re31">
      <hardwareInterface>hardware_interface/EffortJointInterface</hardwareInterface>
    </joint>
    <actuator name="motor11">
      <hardwareInterface>hardware_interface/EffortJointInterface</hardwareInterface>
      <mechanicalReduction>1</mechanicalReduction>
    </actuator>
  </transmission>  
  <transmission name="tran12">
    <type>transmission_interface/SimpleTransmission</type>
    <joint name="foot_re32">
      <hardwareInterface>hardware_interface/EffortJointInterface</hardwareInterface>
    </joint>
    <actuator name="motor12">
      <hardwareInterface>hardware_interface/EffortJointInterface</hardwareInterface>
      <mechanicalReduction>1</mechanicalReduction>
    </actuator>
  </transmission> 

  <transmission name="tran13">
    <type>transmission_interface/SimpleTransmission</type>
    <joint name="foot_re331">
      <hardwareInterface>hardware_interface/EffortJointInterface</hardwareInterface>
    </joint>
    <actuator name="motor13">
      <hardwareInterface>hardware_interface/EffortJointInterface</hardwareInterface>
      <mechanicalReduction>1</mechanicalReduction>
    </actuator>
  </transmission> 

  <transmission name="tran14">
    <type>transmission_interface/SimpleTransmission</type>
    <joint name="foot_re41">
      <hardwareInterface>hardware_interface/EffortJointInterface</hardwareInterface>
    </joint>
    <actuator name="motor14">
      <hardwareInterface>hardware_interface/EffortJointInterface</hardwareInterface>
      <mechanicalReduction>1</mechanicalReduction>
    </actuator>
  </transmission> 

  <transmission name="tran15">
    <type>transmission_interface/SimpleTransmission</type>
    <joint name="foot_re42">
      <hardwareInterface>hardware_interface/EffortJointInterface</hardwareInterface>
    </joint>
    <actuator name="motor15">
      <hardwareInterface>hardware_interface/EffortJointInterface</hardwareInterface>
      <mechanicalReduction>1</mechanicalReduction>
    </actuator>
  </transmission> 

  <transmission name="tran16">
    <type>transmission_interface/SimpleTransmission</type>
    <joint name="foot_re431">
      <hardwareInterface>hardware_interface/EffortJointInterface</hardwareInterface>
    </joint>
    <actuator name="motor16">
      <hardwareInterface>hardware_interface/EffortJointInterface</hardwareInterface>
      <mechanicalReduction>1</mechanicalReduction>
    </actuator>
  </transmission> 
   <transmission name="tran17">
    <type>transmission_interface/SimpleTransmission</type>
    <joint name="fly_pr00">
      <hardwareInterface>hardware_interface/EffortJointInterface</hardwareInterface>
    </joint>
    <actuator name="motor17">
      <hardwareInterface>hardware_interface/EffortJointInterface</hardwareInterface>
      <mechanicalReduction>1</mechanicalReduction>
    </actuator>
  </transmission>

  <transmission name="tran18">
    <type>transmission_interface/SimpleTransmission</type>
    <joint name="fly_pr012">
      <hardwareInterface>hardware_interface/EffortJointInterface</hardwareInterface>
    </joint>
    <actuator name="motor18">
      <hardwareInterface>hardware_interface/EffortJointInterface</hardwareInterface>
      <mechanicalReduction>1</mechanicalReduction>
    </actuator>
  </transmission>

  <transmission name="tran19">
    <type>transmission_interface/SimpleTransmission</type>
    <joint name="fly_pr022">
      <hardwareInterface>hardware_interface/EffortJointInterface</hardwareInterface>
    </joint>
    <actuator name="motor19">
      <hardwareInterface>hardware_interface/EffortJointInterface</hardwareInterface>
      <mechanicalReduction>1</mechanicalReduction>
    </actuator>
  </transmission>

   <transmission name="tran20">
    <type>transmission_interface/SimpleTransmission</type>
    <joint name="fly_pr032">
      <hardwareInterface>hardware_interface/EffortJointInterface</hardwareInterface>
    </joint>
    <actuator name="motor20">
      <hardwareInterface>hardware_interface/EffortJointInterface</hardwareInterface>
      <mechanicalReduction>1</mechanicalReduction>
    </actuator>
  </transmission>

  <transmission name="tran21">
    <type>transmission_interface/SimpleTransmission</type>
    <joint name="fly_pr042">
      <hardwareInterface>hardware_interface/EffortJointInterface</hardwareInterface>
    </joint>
    <actuator name="motor21">
      <hardwareInterface>hardware_interface/EffortJointInterface</hardwareInterface>
      <mechanicalReduction>1</mechanicalReduction>
    </actuator>
  </transmission>

  <transmission name="tran22">
    <type>transmission_interface/SimpleTransmission</type>
    <joint name="fly_re013">
      <hardwareInterface>hardware_interface/EffortJointInterface</hardwareInterface>
    </joint>
    <actuator name="motor22">
      <hardwareInterface>hardware_interface/EffortJointInterface</hardwareInterface>
      <mechanicalReduction>1</mechanicalReduction>
    </actuator>
  </transmission>

  <transmission name="tran23">
    <type>transmission_interface/SimpleTransmission</type>
    <joint name="fly_re023">
      <hardwareInterface>hardware_interface/EffortJointInterface</hardwareInterface>
    </joint>
    <actuator name="motor23">
      <hardwareInterface>hardware_interface/EffortJointInterface</hardwareInterface>
      <mechanicalReduction>1</mechanicalReduction>
    </actuator>
  </transmission>

  <transmission name="tran24">
    <type>transmission_interface/SimpleTransmission</type>
    <joint name="fly_re033">
      <hardwareInterface>hardware_interface/EffortJointInterface</hardwareInterface>
    </joint>
    <actuator name="motor24">
      <hardwareInterface>hardware_interface/EffortJointInterface</hardwareInterface>
      <mechanicalReduction>1</mechanicalReduction>
    </actuator>
  </transmission>
  <transmission name="tran25">
    <type>transmission_interface/SimpleTransmission</type>
    <joint name="fly_re043">
      <hardwareInterface>hardware_interface/EffortJointInterface</hardwareInterface>
    </joint>
    <actuator name="motor25">
      <hardwareInterface>hardware_interface/EffortJointInterface</hardwareInterface>
      <mechanicalReduction>1</mechanicalReduction>
    </actuator>
  </transmission>

  <transmission name="tran26">
    <type>transmission_interface/SimpleTransmission</type>
    <joint name="fly_re0141">
      <hardwareInterface>hardware_interface/EffortJointInterface</hardwareInterface>
    </joint>
    <actuator name="motor26">
      <hardwareInterface>hardware_interface/EffortJointInterface</hardwareInterface>
      <mechanicalReduction>1</mechanicalReduction>
    </actuator>
  </transmission>

  <transmission name="tran27">
    <type>transmission_interface/SimpleTransmission</type>
    <joint name="fly_re0142">
      <hardwareInterface>hardware_interface/EffortJointInterface</hardwareInterface>
    </joint>
    <actuator name="motor27">
      <hardwareInterface>hardware_interface/EffortJointInterface</hardwareInterface>
      <mechanicalReduction>1</mechanicalReduction>
    </actuator>
  </transmission>  
  <transmission name="tran28">
    <type>transmission_interface/SimpleTransmission</type>
    <joint name="fly_re0241">
      <hardwareInterface>hardware_interface/EffortJointInterface</hardwareInterface>
    </joint>
    <actuator name="motor28">
      <hardwareInterface>hardware_interface/EffortJointInterface</hardwareInterface>
      <mechanicalReduction>1</mechanicalReduction>
    </actuator>
  </transmission> 

  <transmission name="tran29">
    <type>transmission_interface/SimpleTransmission</type>
    <joint name="fly_re0242">
      <hardwareInterface>hardware_interface/EffortJointInterface</hardwareInterface>
    </joint>
    <actuator name="motor29">
      <hardwareInterface>hardware_interface/EffortJointInterface</hardwareInterface>
      <mechanicalReduction>1</mechanicalReduction>
    </actuator>
  </transmission> 

  <transmission name="tran30">
    <type>transmission_interface/SimpleTransmission</type>
    <joint name="fly_re0341">
      <hardwareInterface>hardware_interface/EffortJointInterface</hardwareInterface>
    </joint>
    <actuator name="motor30">
      <hardwareInterface>hardware_interface/EffortJointInterface</hardwareInterface>
      <mechanicalReduction>1</mechanicalReduction>
    </actuator>
  </transmission> 

  <transmission name="tran31">
    <type>transmission_interface/SimpleTransmission</type>
    <joint name="fly_re0342">
      <hardwareInterface>hardware_interface/EffortJointInterface</hardwareInterface>
    </joint>
    <actuator name="motor31">
      <hardwareInterface>hardware_interface/EffortJointInterface</hardwareInterface>
      <mechanicalReduction>1</mechanicalReduction>
    </actuator>
  </transmission> 

  <transmission name="tran32">
    <type>transmission_interface/SimpleTransmission</type>
    <joint name="fly_re0431">
      <hardwareInterface>hardware_interface/EffortJointInterface</hardwareInterface>
    </joint>
    <actuator name="motor32">
      <hardwareInterface>hardware_interface/EffortJointInterface</hardwareInterface>
      <mechanicalReduction>1</mechanicalReduction>
    </actuator>
  </transmission> 
    <transmission name="tran33">
    <type>transmission_interface/SimpleTransmission</type>
    <joint name="fly_re0432">
      <hardwareInterface>hardware_interface/EffortJointInterface</hardwareInterface>
    </joint>
    <actuator name="motor33">
      <hardwareInterface>hardware_interface/EffortJointInterface</hardwareInterface>
      <mechanicalReduction>1</mechanicalReduction>
    </actuator>
  </transmission> 
</robot>
